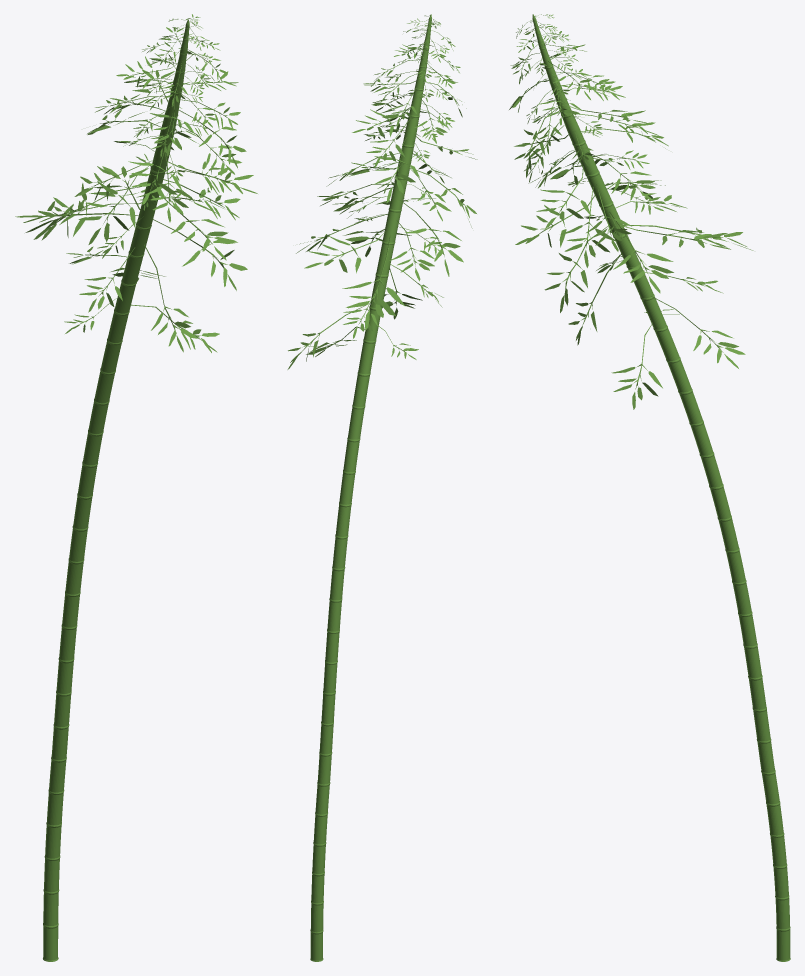
File: bamboo_bend_1FBX.fbx
The picture shows the model from 3 angles, left to right: view 1: azimuth 30°, elevation 25°; view 2: azimuth 150°, elevation 25°; view 3: azimuth 270°, elevation 25°; orthographic projection. The views are drawn at different scales.
Visible parts, largest first — view 1: Trunk_base; view 2: Trunk_base; view 3: Trunk_base.
Part boxes in pixels (box(x1,y1,x2,y2)): Trunk_base: box(15, 14, 257, 961); Trunk_base: box(287, 14, 477, 961); Trunk_base: box(509, 14, 790, 961).
Size of the model in its own units: 652 by 3449 by 934.
